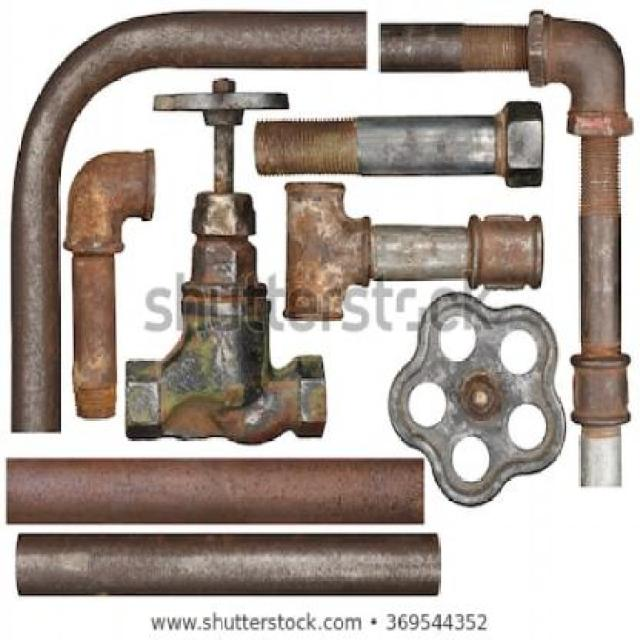corrosion: (4, 7, 630, 599)
